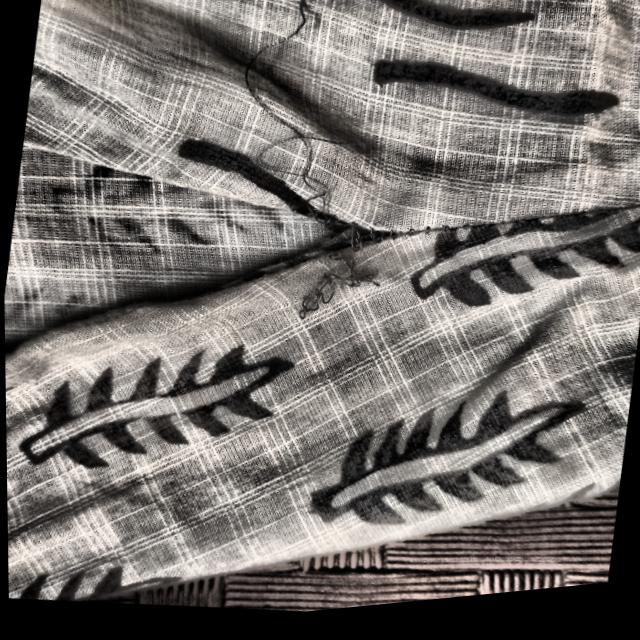Stitch: (192, 0, 402, 343)
